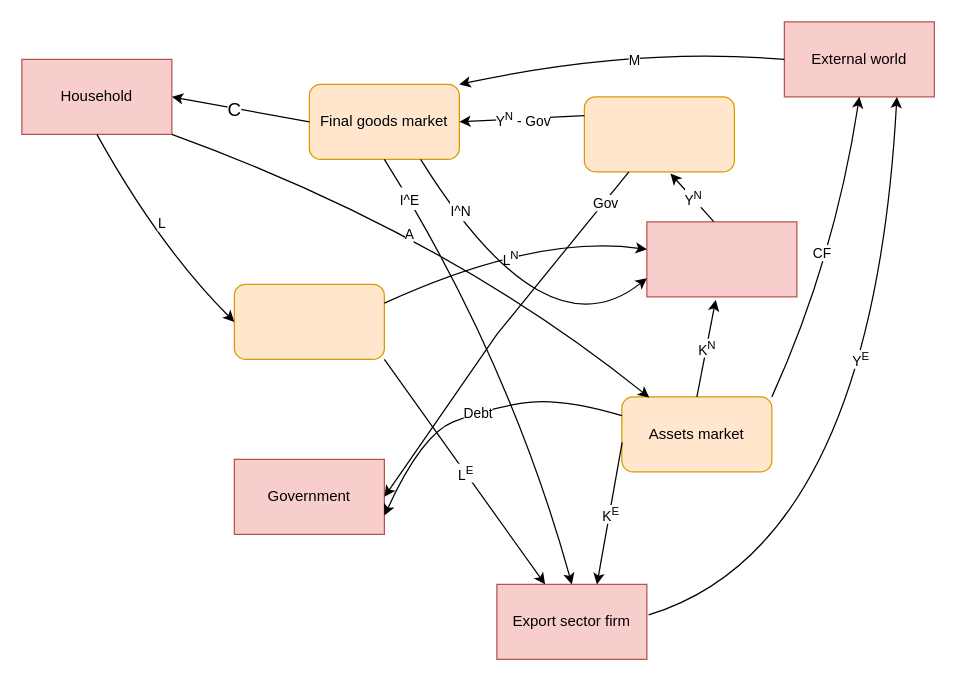
Some shapes in this 956 by 681 pixel diagram are drawn without their labels. Each missing label, with the centre of its shape:
Intermediate goods market: (658,134)
Labor market: (308,321)
Non-export sector firm: (721,259)
